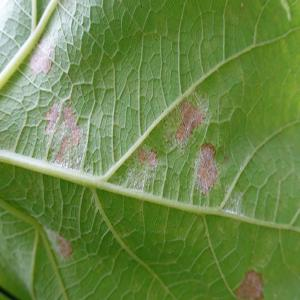Folha: (0, 0, 300, 299)
Fungo: (44, 100, 83, 168), (121, 140, 162, 198), (175, 98, 205, 144), (196, 142, 218, 196), (43, 225, 73, 260), (28, 36, 54, 74), (235, 268, 264, 300), (62, 104, 83, 147), (220, 190, 246, 220), (44, 100, 60, 134), (55, 234, 73, 260), (54, 133, 68, 165), (62, 104, 76, 130), (138, 148, 158, 166), (70, 123, 83, 147), (278, 0, 292, 21), (147, 150, 157, 166), (138, 148, 146, 164)
